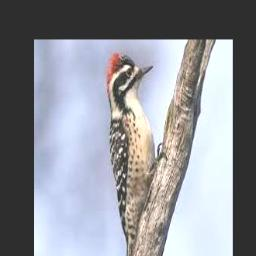Woodpecker: (105, 53, 167, 256)
